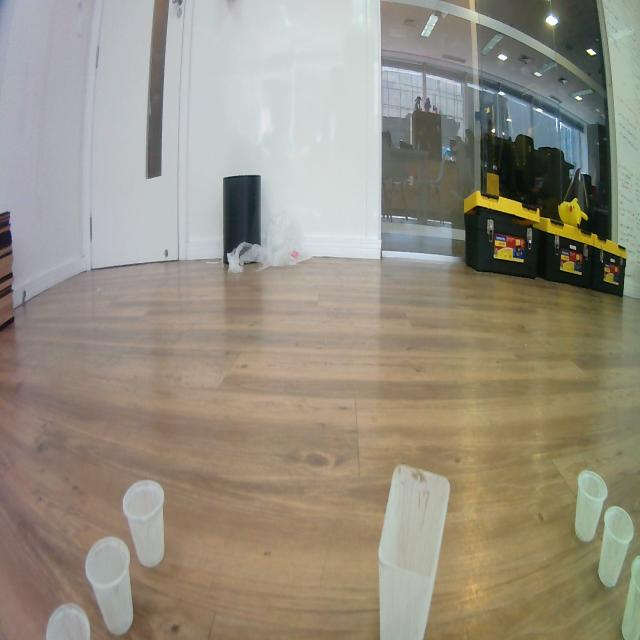erva_daninha: (378, 463, 451, 640)
planta: (84, 535, 134, 638), (122, 479, 165, 568), (598, 505, 634, 589), (574, 469, 609, 544), (45, 602, 91, 640), (619, 554, 639, 640)
